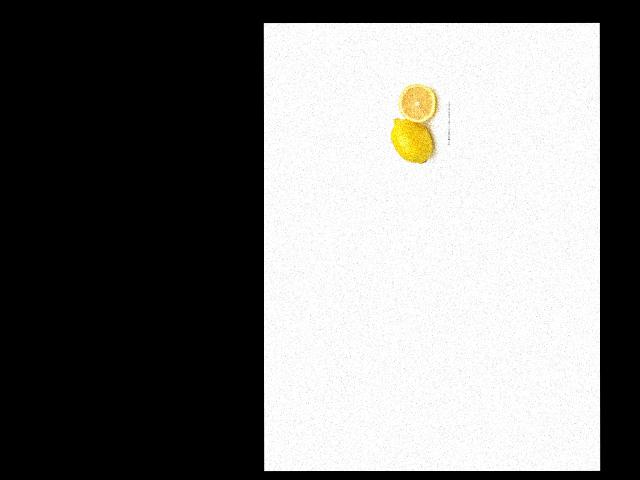lemon: (390, 117, 434, 167)
